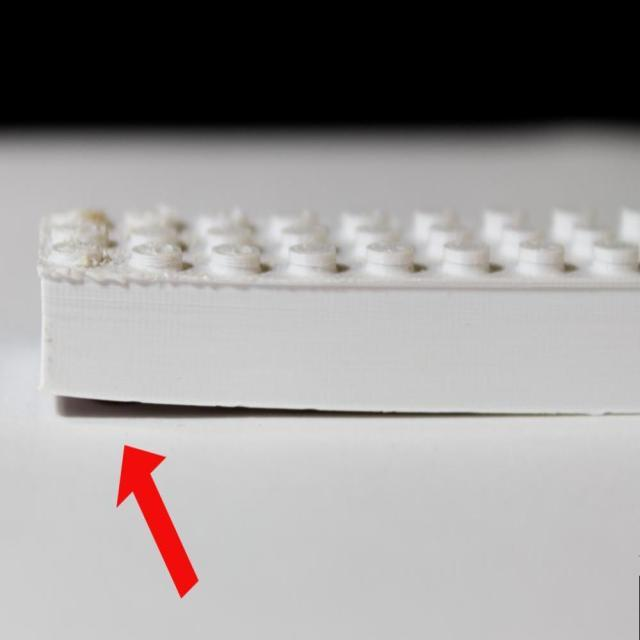Warping: (14, 370, 306, 440)
